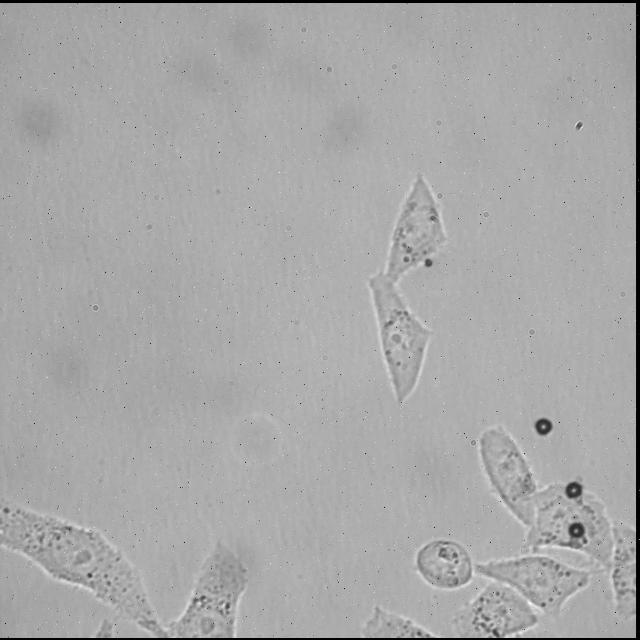microbeads: (562, 478, 586, 502), (568, 520, 588, 542), (536, 417, 554, 438)
